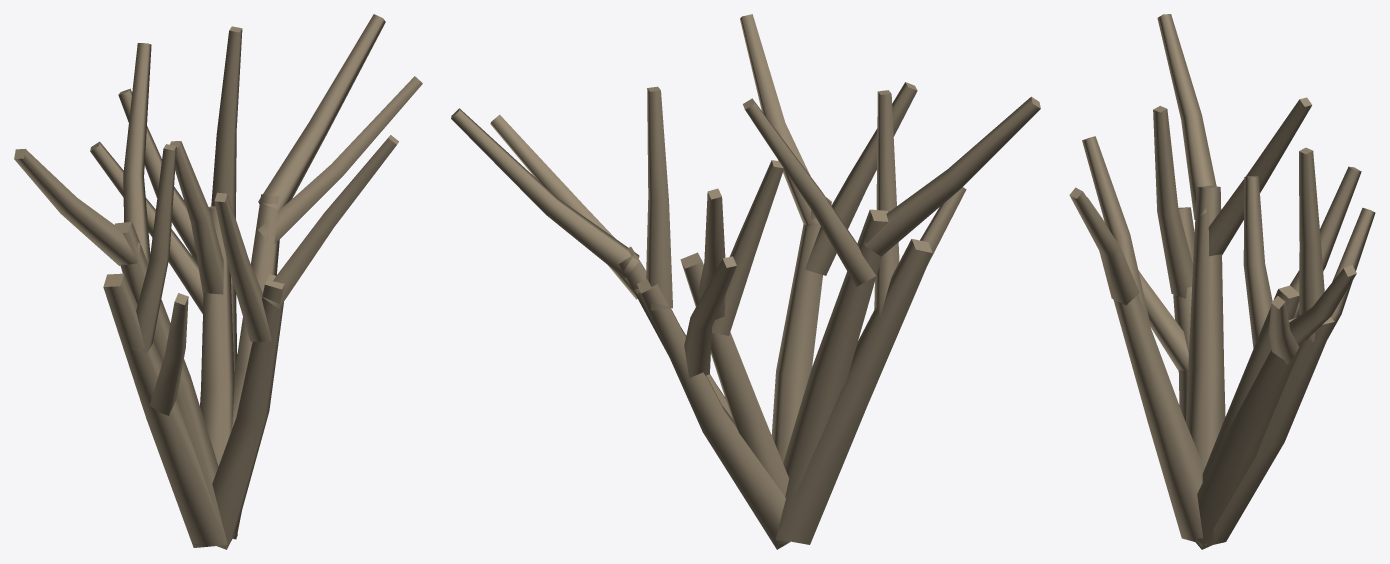
The model's file is dry_shrub_1_mid.glb.
3 renders of one model, left to right at view 1: azimuth 30°, elevation 25°; view 2: azimuth 150°, elevation 25°; view 3: azimuth 270°, elevation 25°, orthographic. The views are drawn at different scales.
Parts seen in each view (by area): view 1: dry_shrub_1_mid; view 2: dry_shrub_1_mid; view 3: dry_shrub_1_mid.
Boxes of the visible parts, x1=… form: dry_shrub_1_mid: x1=14, y1=14, x2=422, y2=549; dry_shrub_1_mid: x1=451, y1=14, x2=1040, y2=549; dry_shrub_1_mid: x1=1069, y1=14, x2=1375, y2=549.
Size of the model in its own units: 0.9454 by 0.8997 by 0.573.
